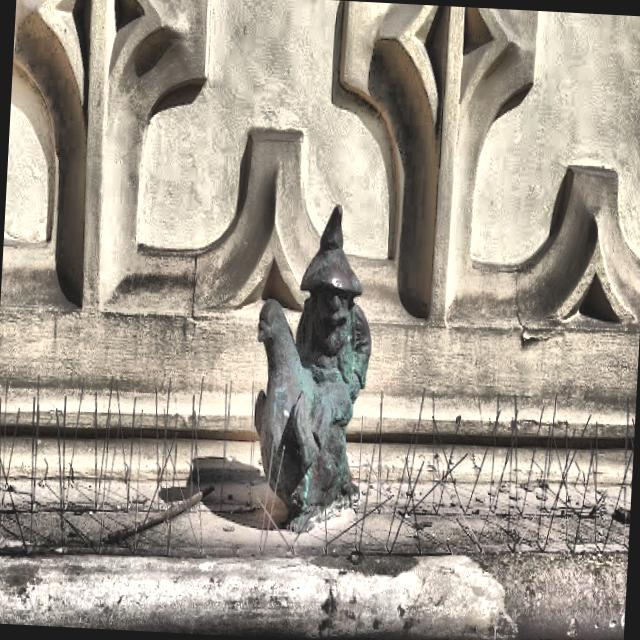Golebnik: (254, 205, 372, 521)
